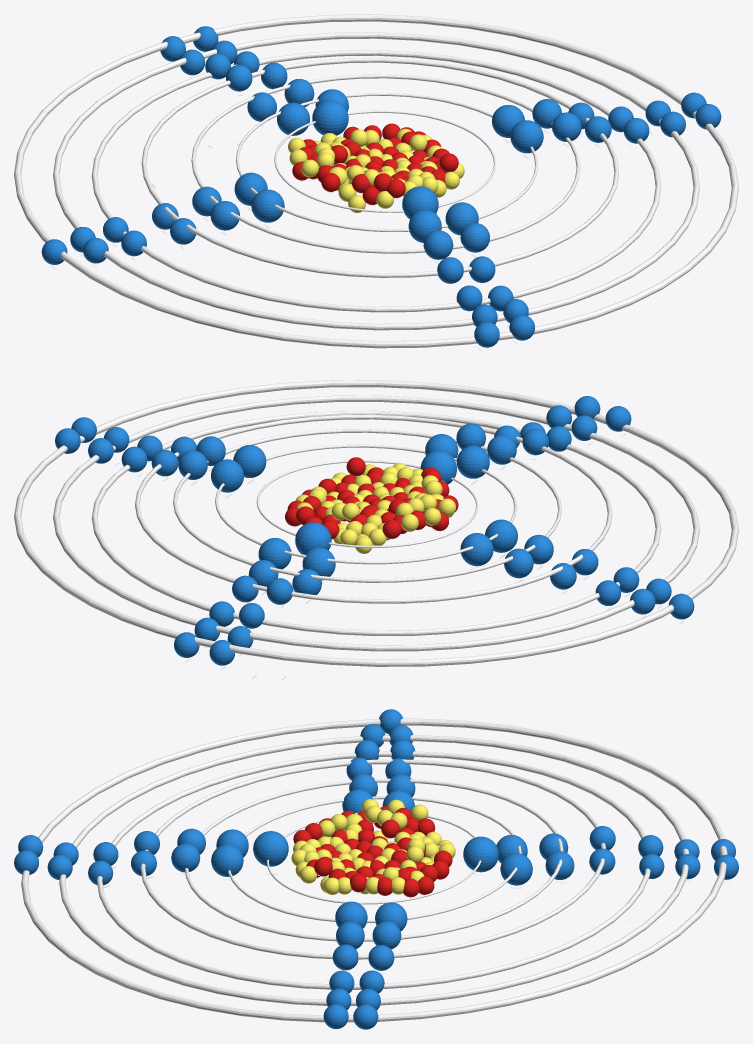
The picture shows the model from 3 angles, top to bottom: view 1: azimuth 30°, elevation 25°; view 2: azimuth 150°, elevation 25°; view 3: azimuth 270°, elevation 25°; orthographic projection. The views are drawn at different scales.
Parts seen in each view (by area): view 1: Torus.007, Torus.006, Torus.005, Torus.004, Torus.003, Torus.002, Torus.001, g, g.005, g.003, g.001, g.008 (+16 smaller); view 2: Torus.007, Torus.006, Torus.005, Torus.004, Torus.003, Torus.002, Torus.001, g, g.006, g.004, g.002, g.003 (+33 smaller); view 3: Torus.007, Torus.006, Torus.005, Torus.004, Torus.003, Torus.002, g.001, g, Torus.001, g.007, g.009, g.015 (+9 smaller).
Part boxes in pixels (x1=…): Torus.007: x1=14, y1=14, x2=738, y2=348; Torus.006: x1=53, y1=32, x2=699, y2=330; Torus.005: x1=91, y1=50, x2=661, y2=312; Torus.004: x1=141, y1=58, x2=618, y2=277; Torus.003: x1=191, y1=74, x2=580, y2=253; Torus.002: x1=236, y1=93, x2=538, y2=231; Torus.001: x1=274, y1=110, x2=495, y2=212; g: x1=312, y1=100, x2=348, y2=135; g.005: x1=510, y1=120, x2=543, y2=153; g.003: x1=251, y1=189, x2=284, y2=222; g.001: x1=402, y1=186, x2=438, y2=219; g.008: x1=277, y1=102, x2=309, y2=135; Torus.007: x1=14, y1=380, x2=738, y2=666; Torus.006: x1=53, y1=395, x2=699, y2=651; Torus.005: x1=91, y1=410, x2=661, y2=635; Torus.004: x1=135, y1=414, x2=612, y2=603; Torus.003: x1=173, y1=429, x2=561, y2=582; Torus.002: x1=215, y1=444, x2=517, y2=564; Torus.001: x1=256, y1=460, x2=478, y2=547; g: x1=295, y1=522, x2=331, y2=554; g.006: x1=456, y1=445, x2=489, y2=478; g.004: x1=211, y1=459, x2=243, y2=492; g.002: x1=460, y1=533, x2=493, y2=566; g.003: x1=485, y1=519, x2=517, y2=552; Torus.007: x1=21, y1=718, x2=727, y2=1022; Torus.006: x1=59, y1=735, x2=689, y2=1005; Torus.005: x1=97, y1=751, x2=650, y2=989; Torus.004: x1=140, y1=759, x2=605, y2=959; Torus.003: x1=184, y1=778, x2=563, y2=941; Torus.002: x1=228, y1=796, x2=521, y2=922; g.001: x1=253, y1=831, x2=288, y2=866; g: x1=463, y1=836, x2=498, y2=872; Torus.001: x1=266, y1=812, x2=481, y2=904; g.007: x1=211, y1=844, x2=243, y2=876; g.009: x1=500, y1=853, x2=532, y2=885; g.015: x1=171, y1=843, x2=200, y2=872.
Bounding box in the file's own units: 20.29 × 2.92 × 20.12.
